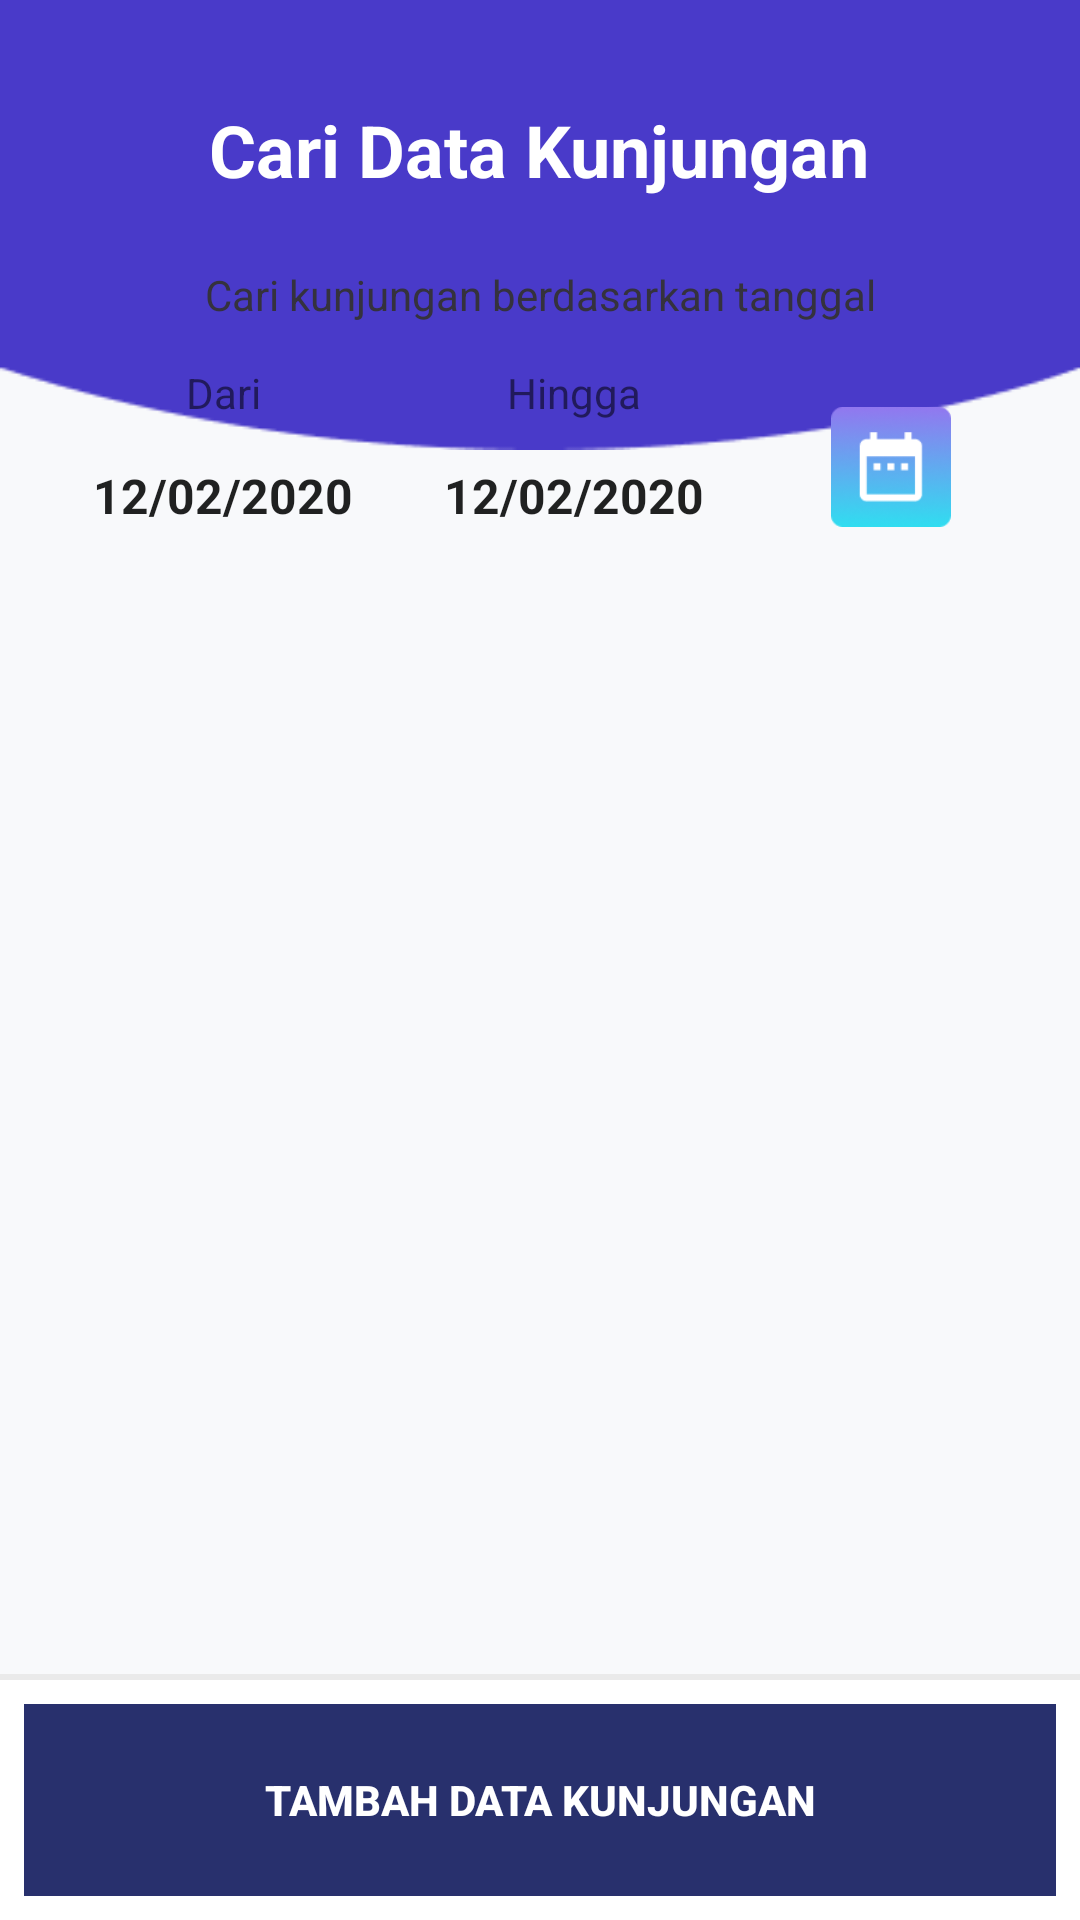

Icons on this 1080×1920 Android screen, each with its box as detection(x1, y1, x2, y2):
sales kunjungan date: detection(831, 407, 951, 527)
